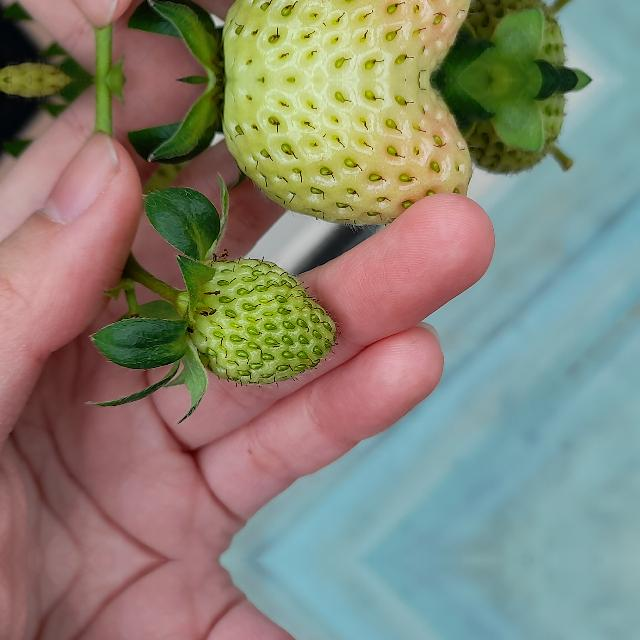Health_25: (188, 258, 336, 384)
Health_50: (222, 82, 474, 224), (222, 0, 474, 78)
